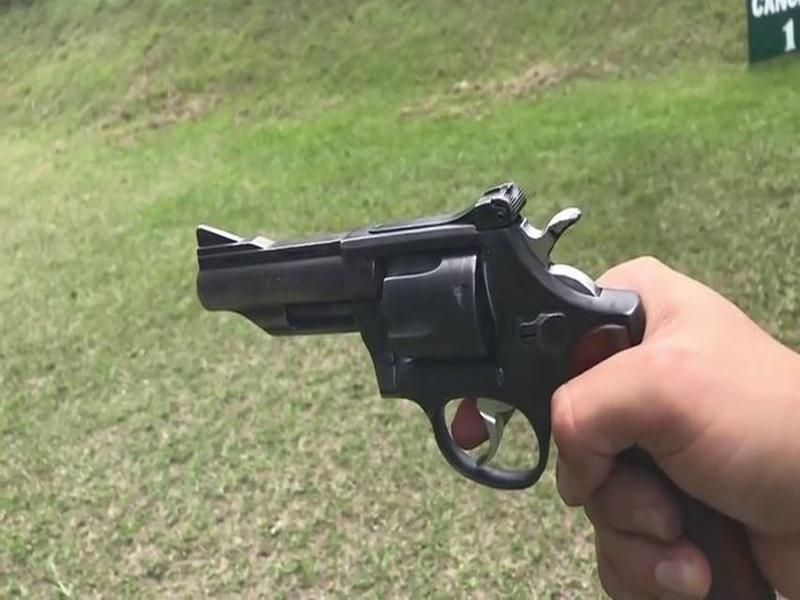Revolver: (174, 153, 661, 540)
